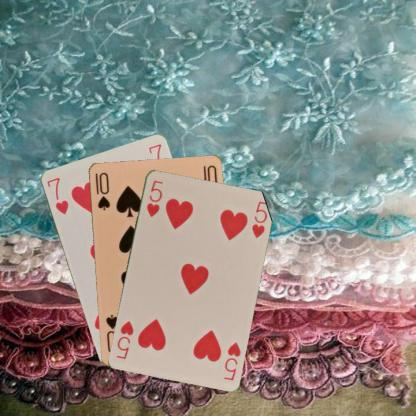10s: (92, 169, 111, 211)
5h: (221, 339, 242, 381), (143, 177, 164, 218)
7h: (44, 174, 69, 216)
